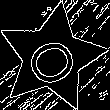O_NE: (19, 27, 85, 88)
